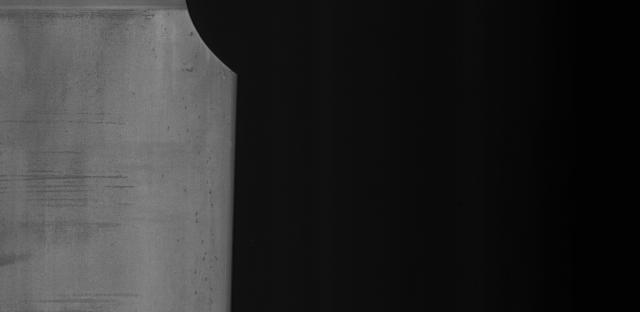welding_line: (0, 0, 211, 29)
